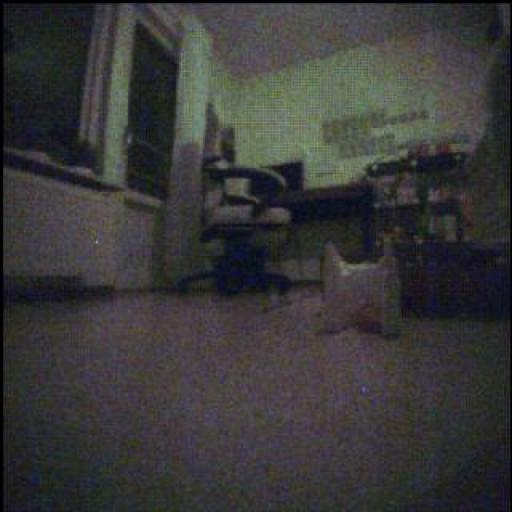basket: (359, 301, 383, 334)
